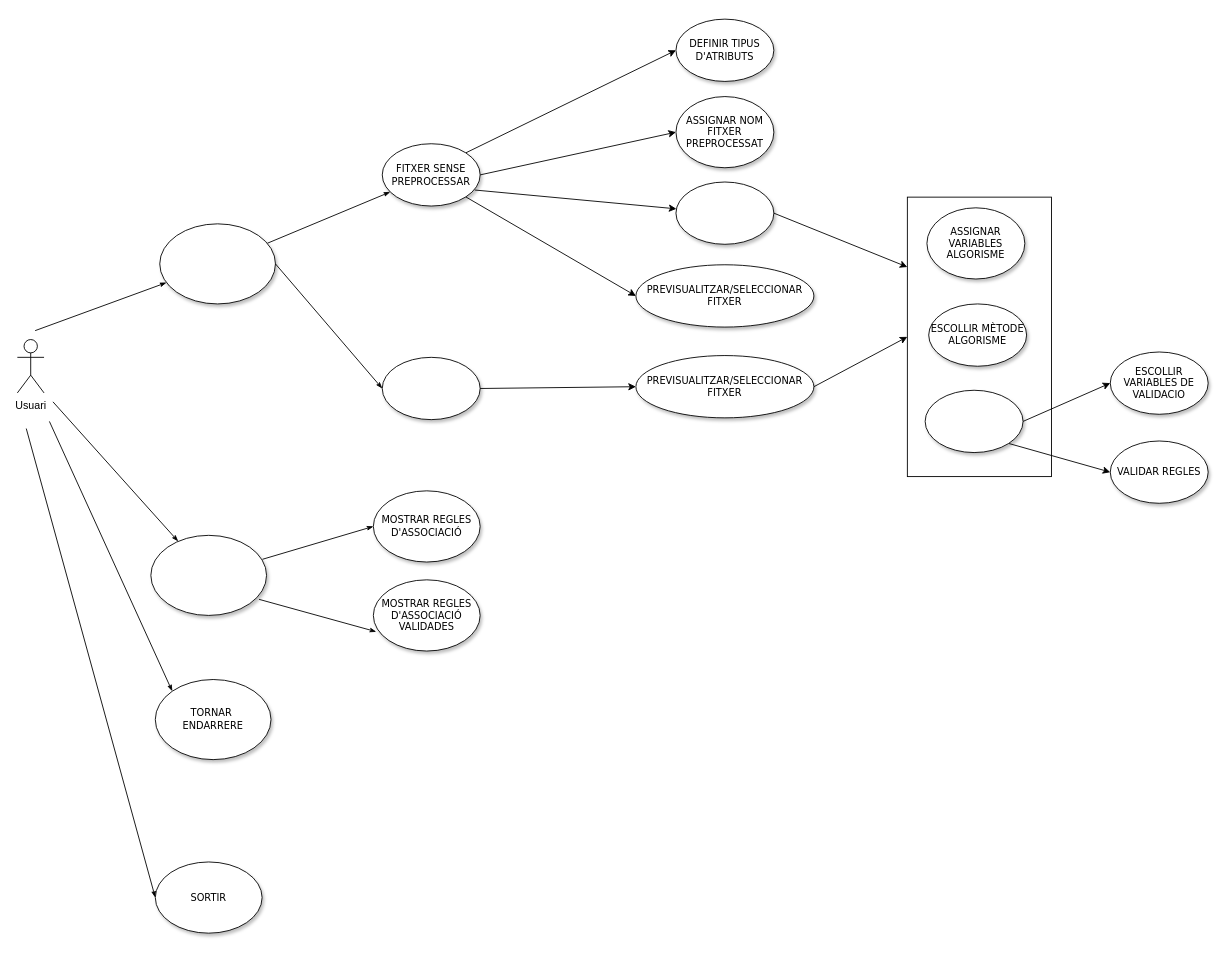
This 1229x955 diagram has some shape labels left out. The shapes that lost their labels are listed below. From the top down, each one's centre as x and y in pixels, then its label:
the point at 725,214: PREPROCESSAR LES DADES
the point at 218,264: DES DE L'INICI
the point at 431,389: FITXER PREPROCESSAT
the point at 974,422: APLICAR ALGORISME
the point at 209,576: MOSTRAR REGLES
